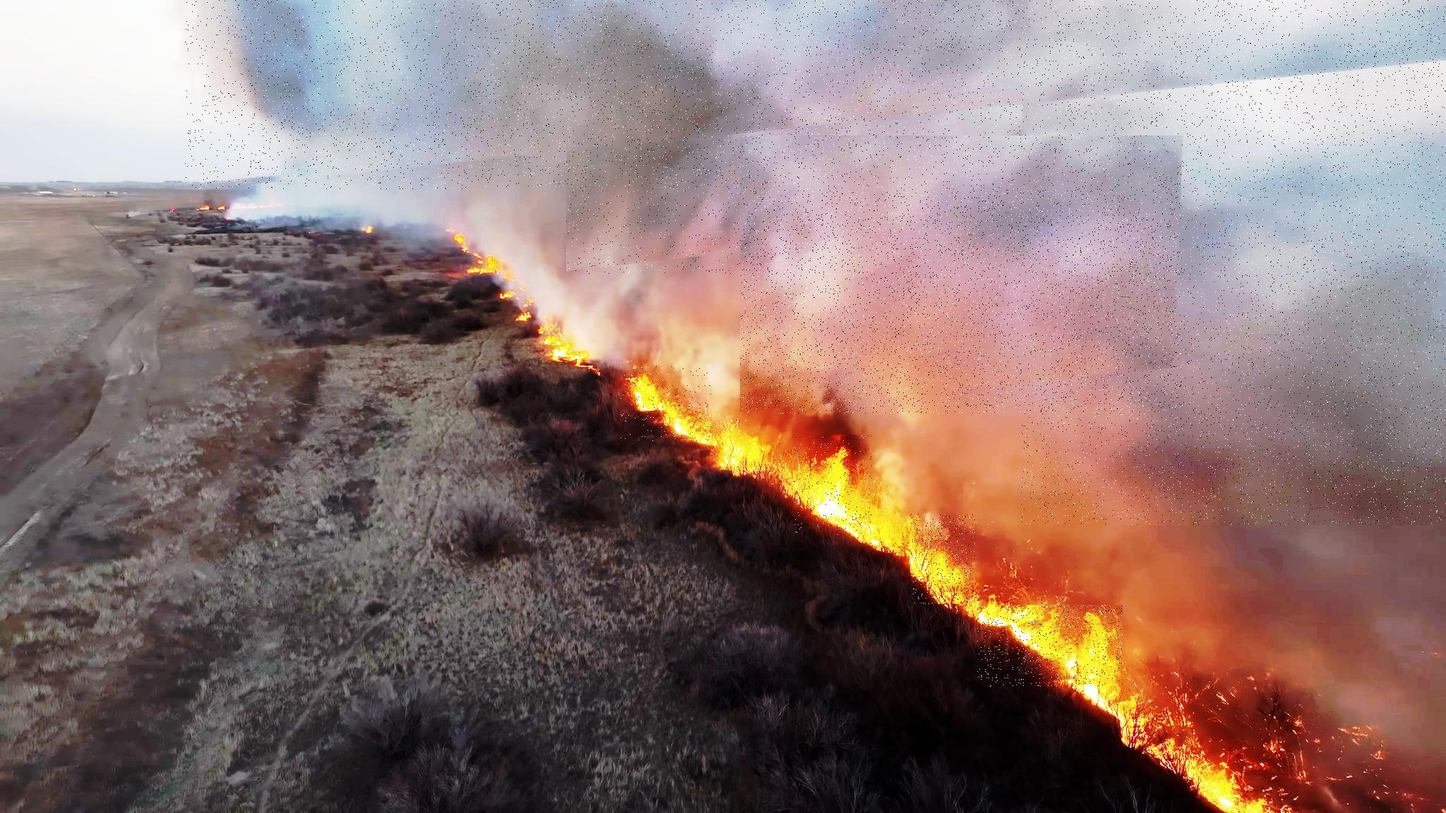fire: (977, 605, 1123, 687), (793, 435, 872, 536), (620, 363, 712, 441), (910, 514, 975, 604)
smoke: (566, 0, 1446, 274), (185, 0, 1446, 189), (1021, 3, 1446, 525), (740, 136, 1185, 414)
